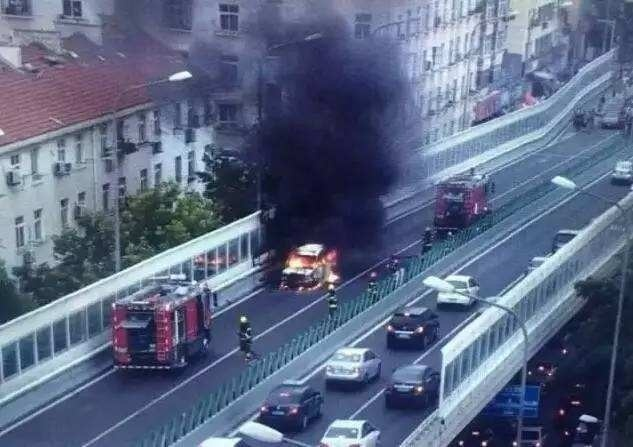fire: (280, 241, 339, 290)
